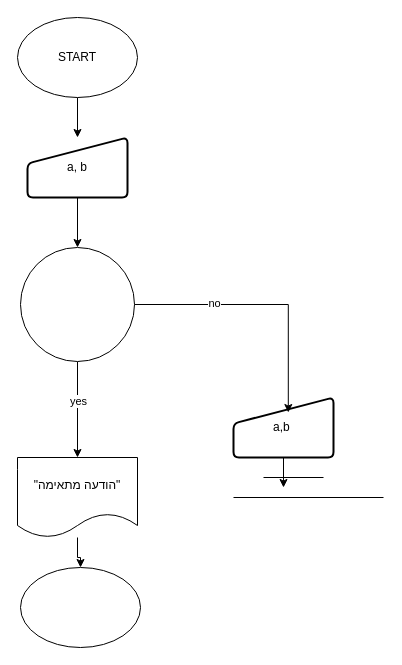
Image size: 402x665. Some labels were removed from this diagram. The centre of each missing label's shape, as x and y in pixels:
"STOP" goes at point (80, 607).
"While a//10==b%10 and a%10==b//10" goes at point (77, 304).
